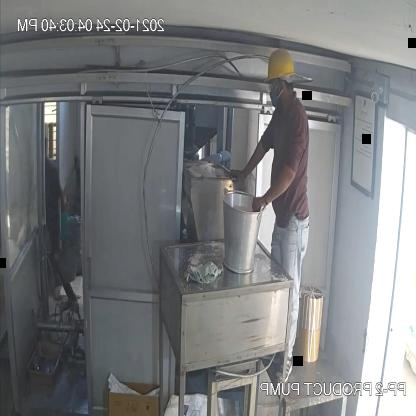helmet: (265, 42, 296, 87)
